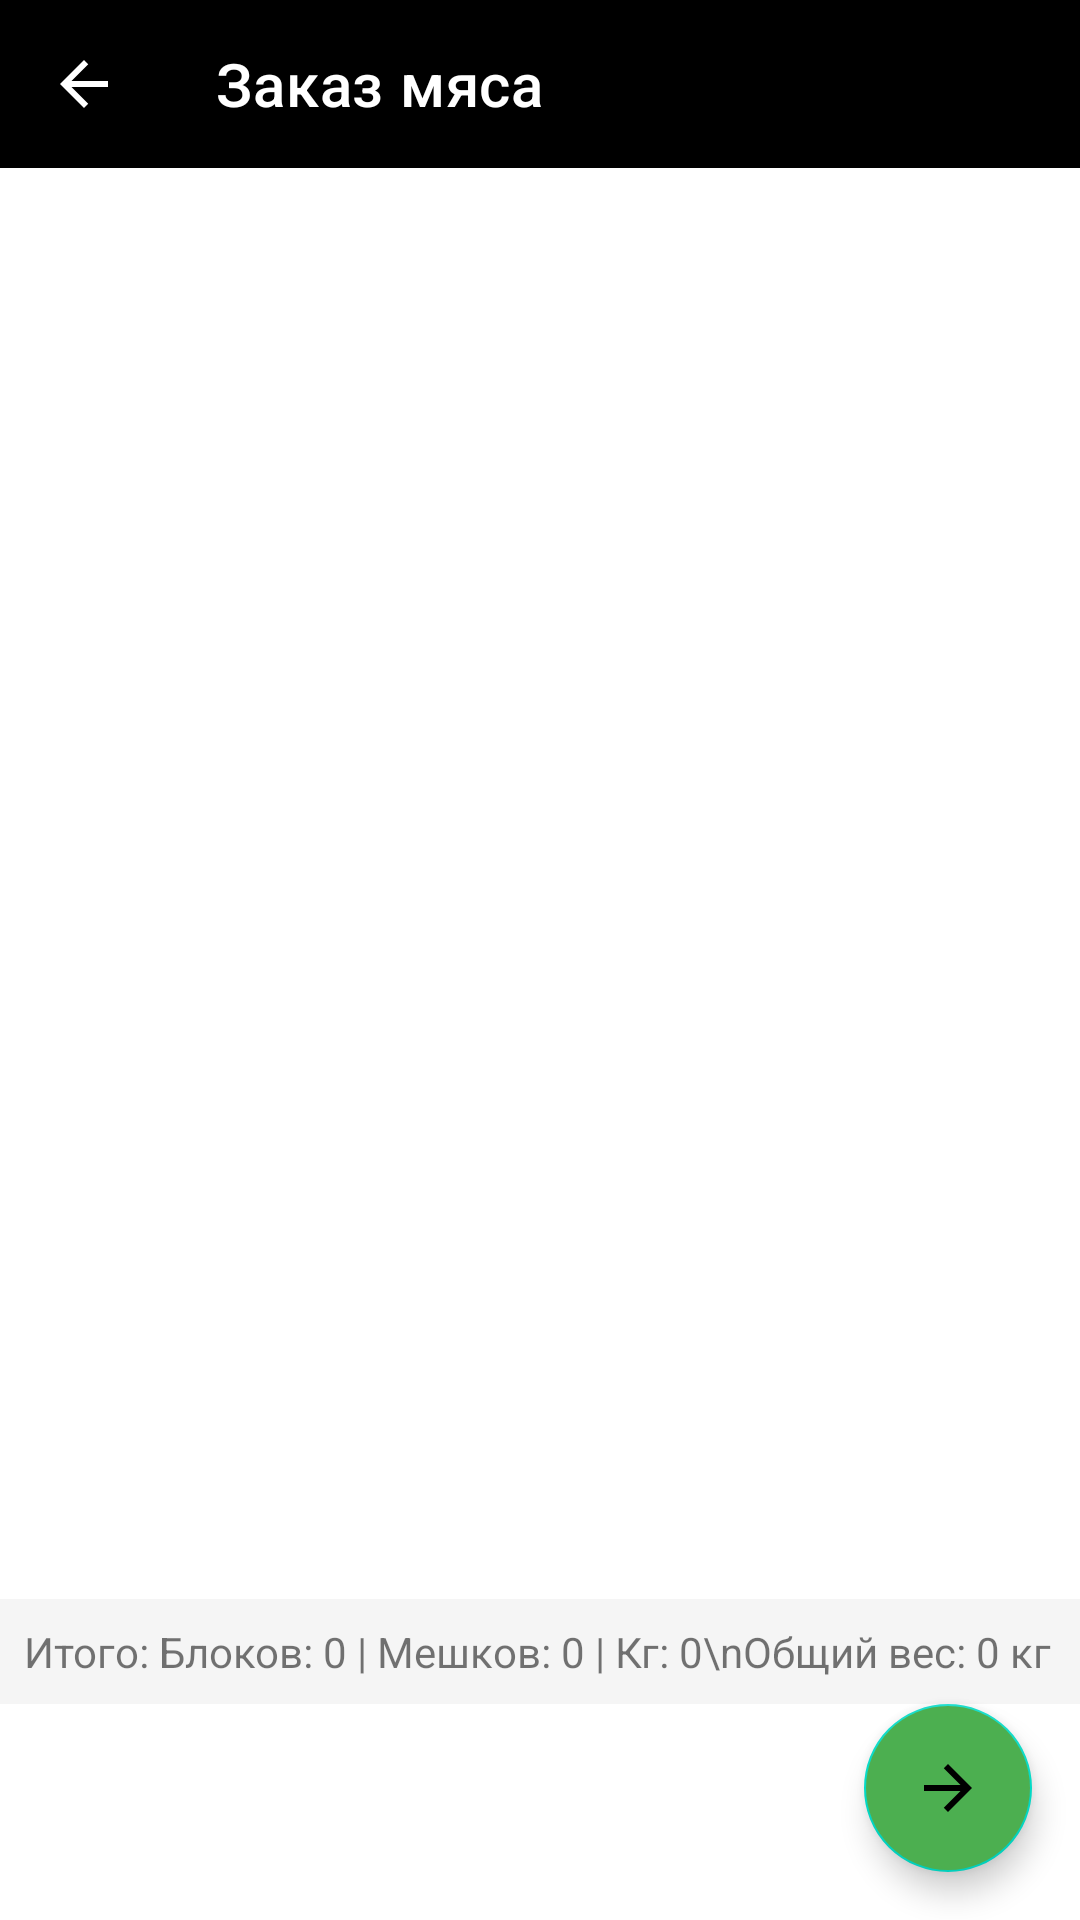

Screen size 1080*1920. Icon name, then its box in pixels as (x1, y1, x2, y2):
arrow forward: (864, 1704, 1032, 1872)
